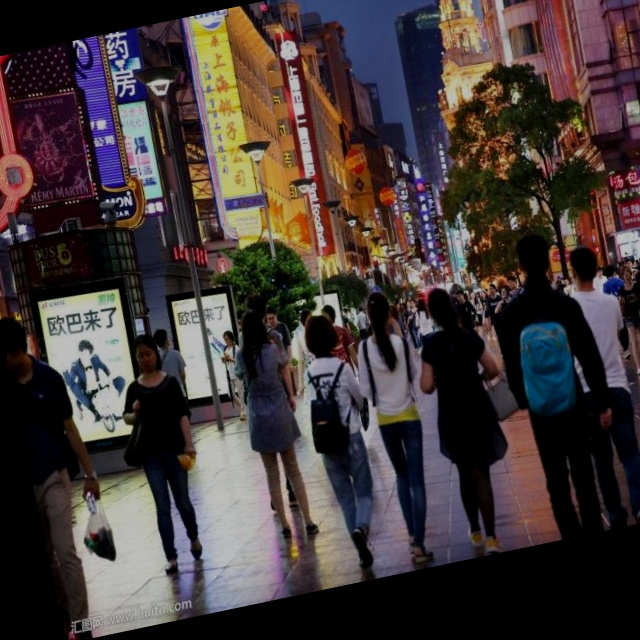Sin_Casco_Mascarrilla: (129, 334, 165, 378)
